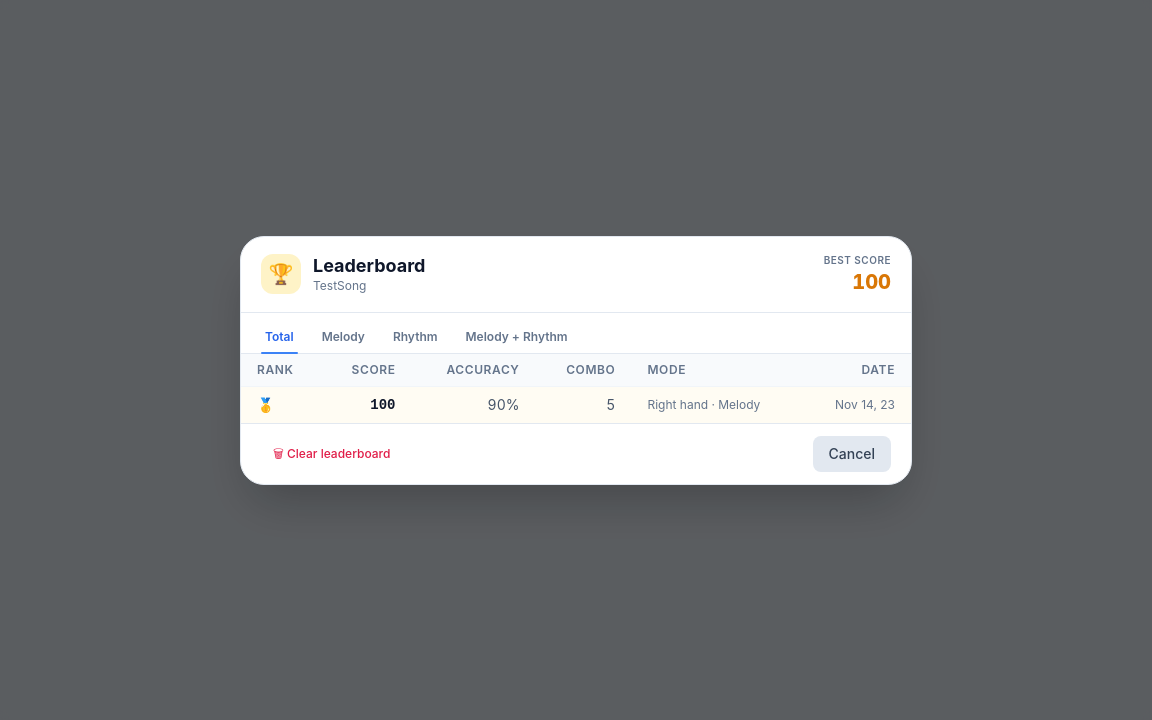
Test: LeaderboardModal › hides the hand-filter tabs while on the total tab and shows them otherwise
Check: the text "Both hands" is not shown
Click the button "Melody" at [343, 336], box [310,320,377,352]
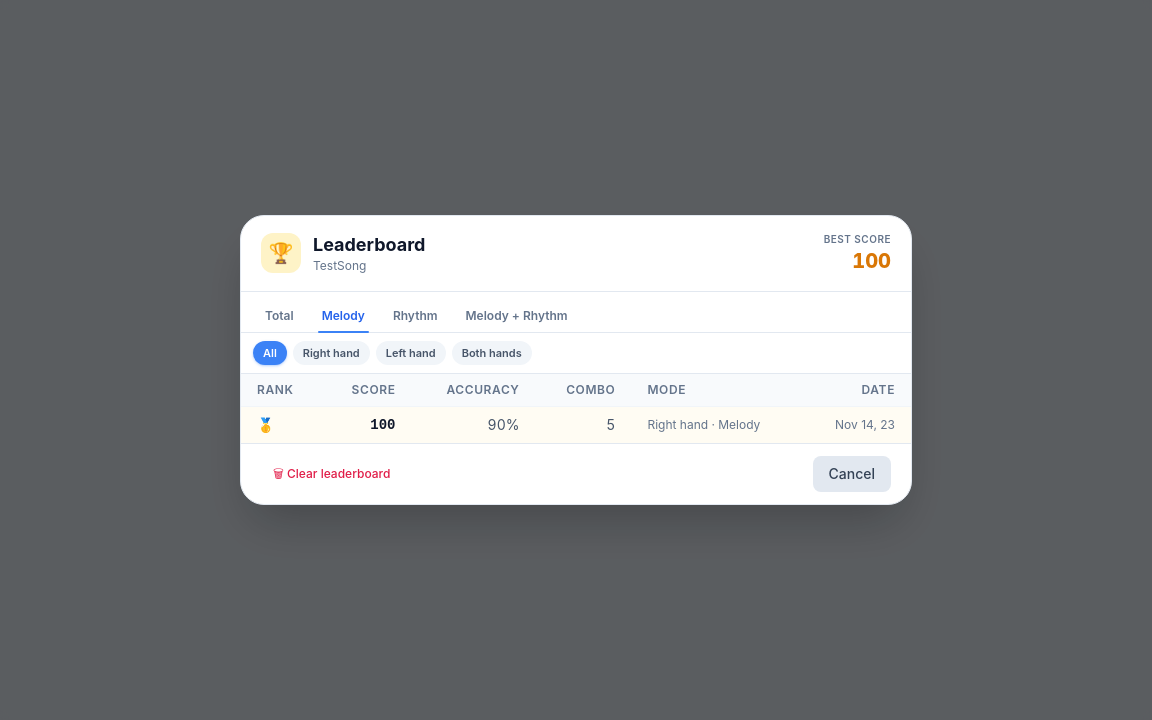
Check: the button "Both hands" is shown, box [452,341,532,365]
